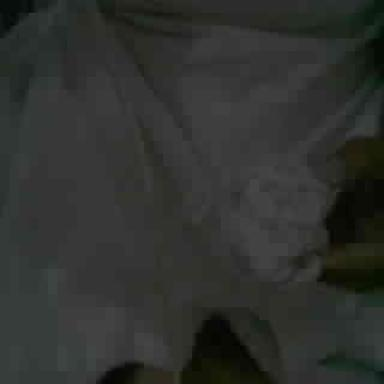paper: (232, 168, 338, 288)
